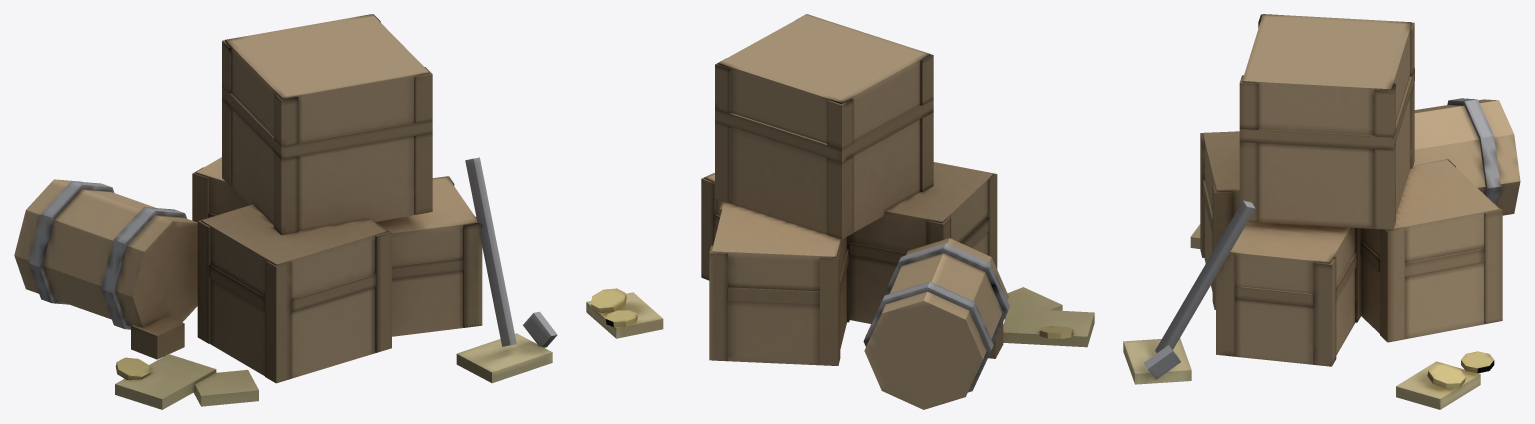
The model's file is cratestack.glb.
3 renders of one model, left to right at view 1: azimuth 30°, elevation 25°; view 2: azimuth 150°, elevation 25°; view 3: azimuth 270°, elevation 25°, orthographic. The views are drawn at different scales.
Parts seen in each view (by area): view 1: cratestack; view 2: cratestack; view 3: cratestack.
Part boxes in pixels (<box>): cratestack: <box>14,14,557,409</box>; cratestack: <box>586,14,1094,409</box>; cratestack: <box>1123,14,1520,409</box>.
Bounding box in the file's own units: 4.17 × 2.49 × 3.32.
Materials: 5 (5 with a texture image).
